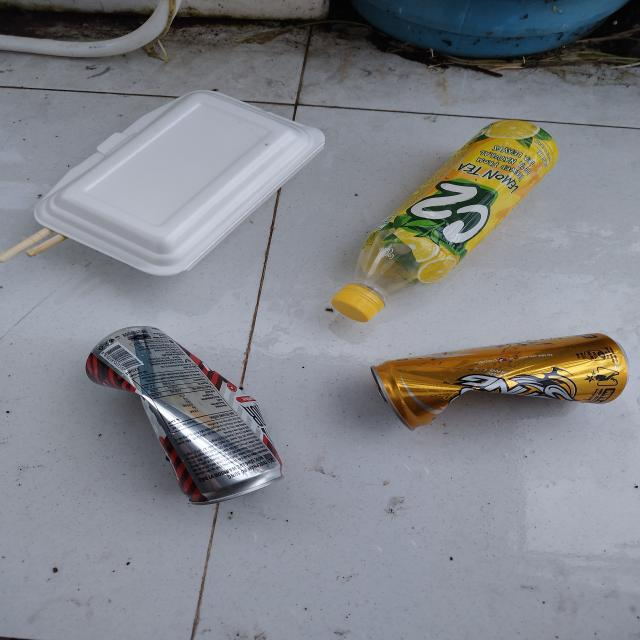bottle: (331, 119, 561, 322)
can: (82, 322, 286, 506), (372, 333, 630, 431)
foam box: (32, 88, 327, 278)
